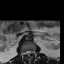CCS_normal: (27, 48, 29, 57)
LFS_normal: (31, 48, 33, 55)
LLS_normal: (29, 48, 31, 55)
RFS_normal: (23, 49, 25, 56)
RLS_normal: (25, 49, 27, 55)
